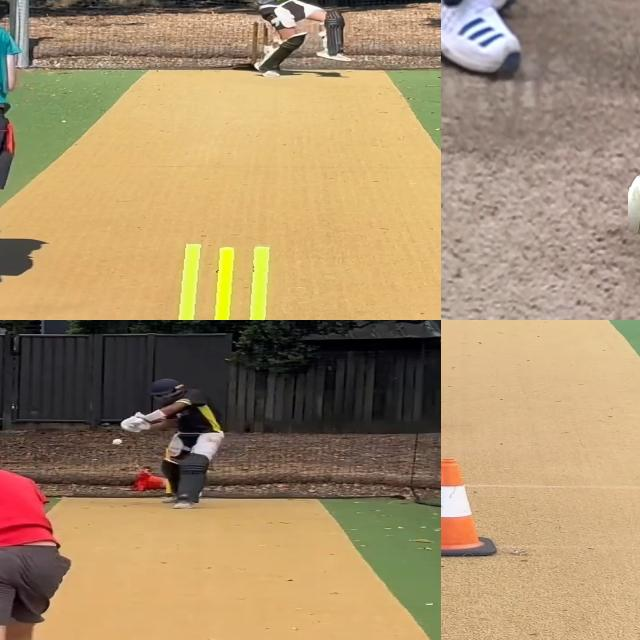Cricket ball: (628, 170, 640, 238), (111, 437, 125, 445)
Stumps: (165, 241, 284, 320)
